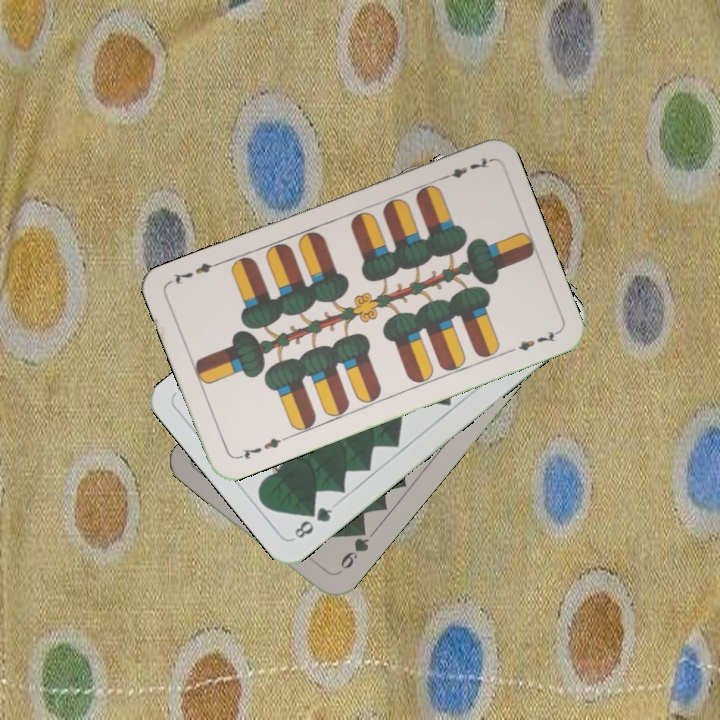E7: (232, 432, 289, 462), (436, 153, 493, 183)
G8: (290, 502, 335, 542)
G9: (332, 523, 372, 577)
